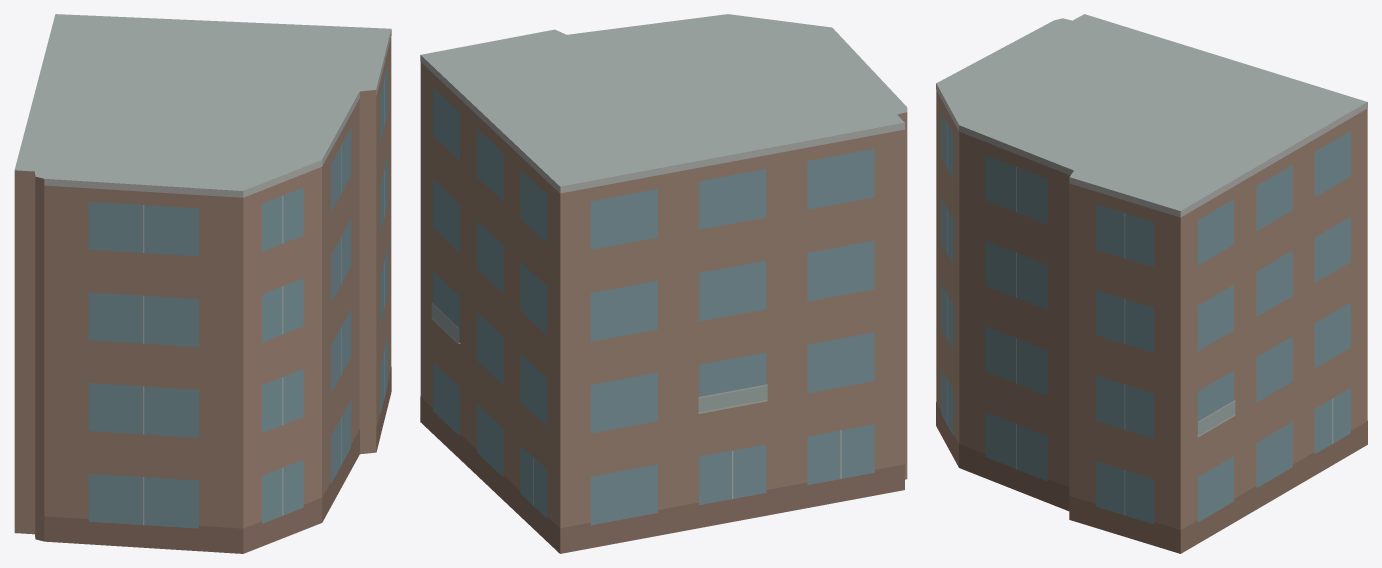
Rendered from survey-upis-32630789.glb.
The picture shows the model from 3 angles, left to right: view 1: azimuth 30°, elevation 25°; view 2: azimuth 150°, elevation 25°; view 3: azimuth 270°, elevation 25°; orthographic projection. The views are drawn at different scales.
Visible parts, largest first — view 1: survey-upis-32630789.tmp; view 2: survey-upis-32630789.tmp; view 3: survey-upis-32630789.tmp.
Boxes of the visible parts, x1,y1,x2,y2 form: survey-upis-32630789.tmp: [14, 14, 391, 553]; survey-upis-32630789.tmp: [420, 14, 907, 553]; survey-upis-32630789.tmp: [936, 14, 1367, 553].
Size of the model in its own units: 16.3 by 13.2 by 15.07.
